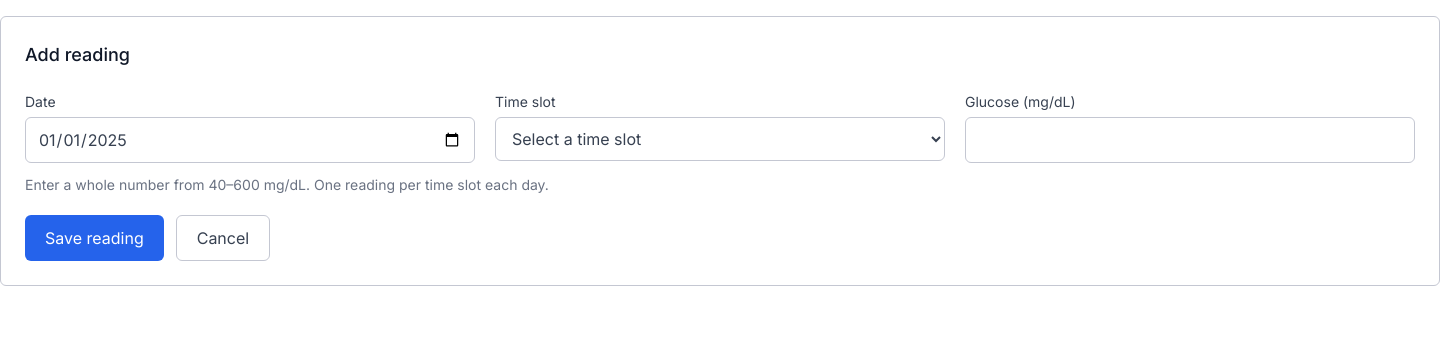
Test: a duplicate slot error is shown without losing the entered glucose
Select "Morning (fasting)" in the dropdown labelled "Time slot" at [720, 139], box [495,117,945,161]
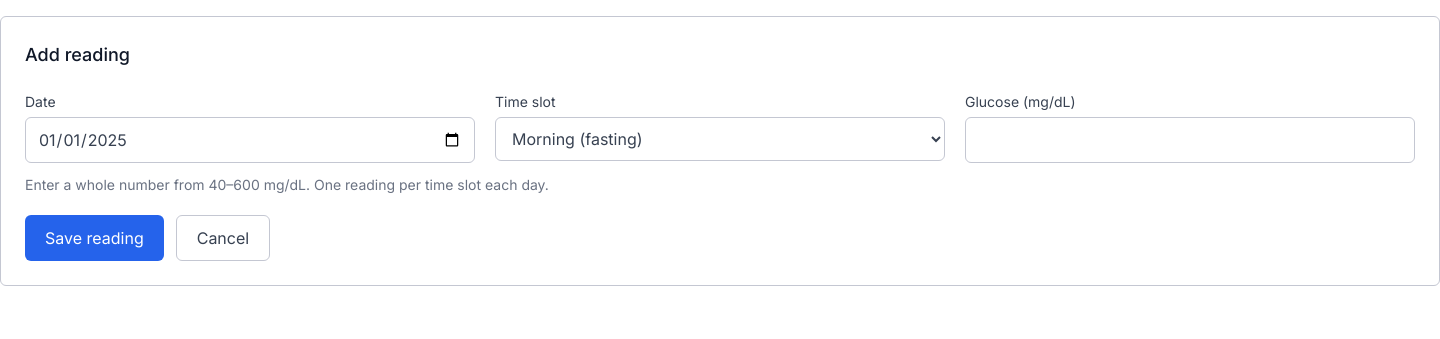
Type "110" into the number field labelled "Glucose (mg/dL)" at [1190, 140], box [965,117,1415,163]
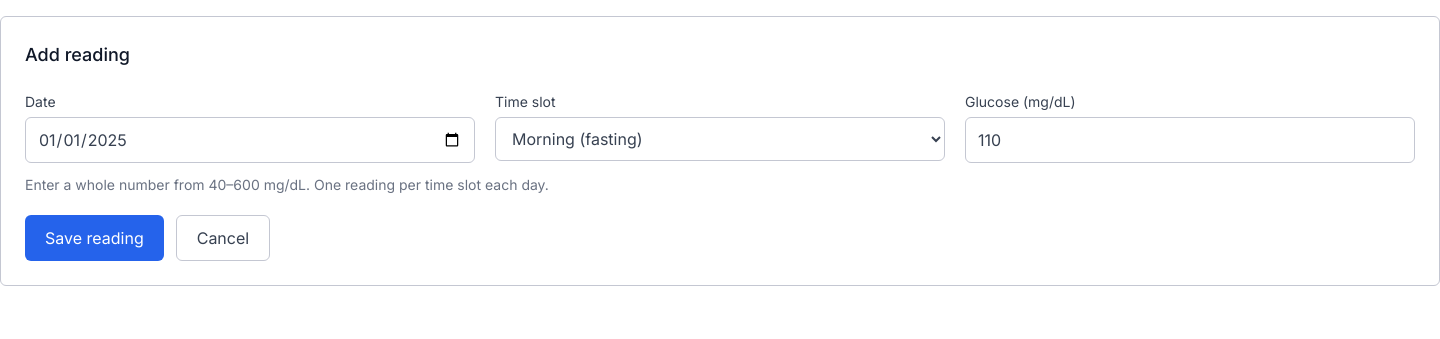
Click the button "Save reading" at [94, 238], box [25,215,164,261]
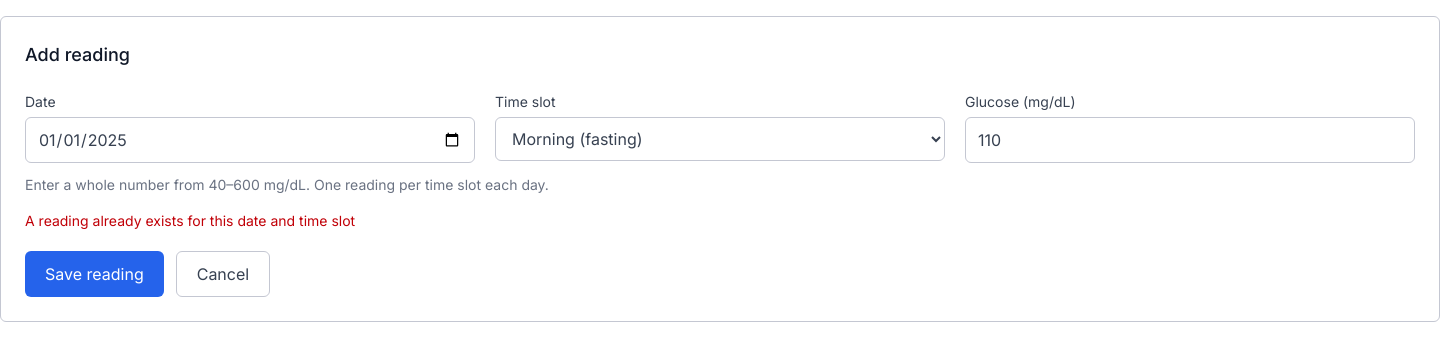
Check: the message reads "A reading already exists for this date and time slot", box [25,212,355,229]
